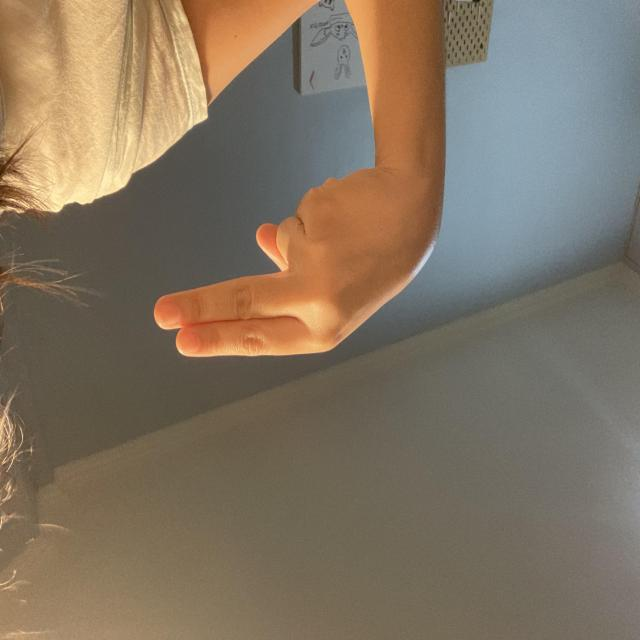H: (203, 282, 487, 474)
